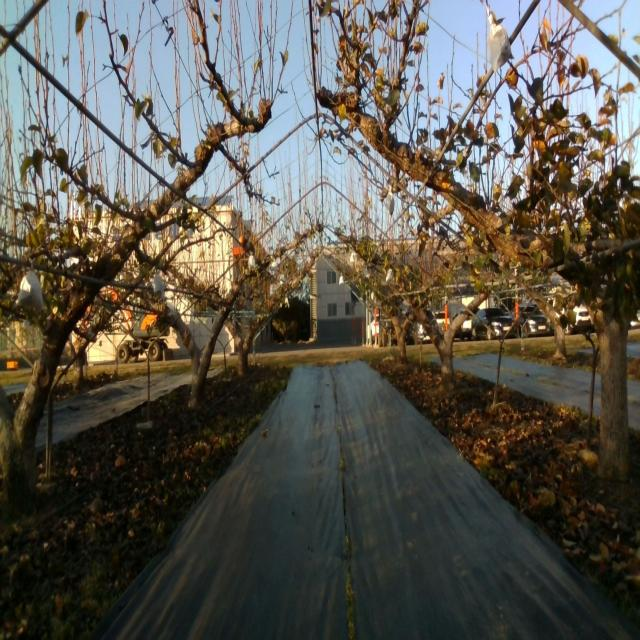pearbags: (487, 15, 515, 75), (16, 268, 44, 312), (153, 274, 165, 298)
